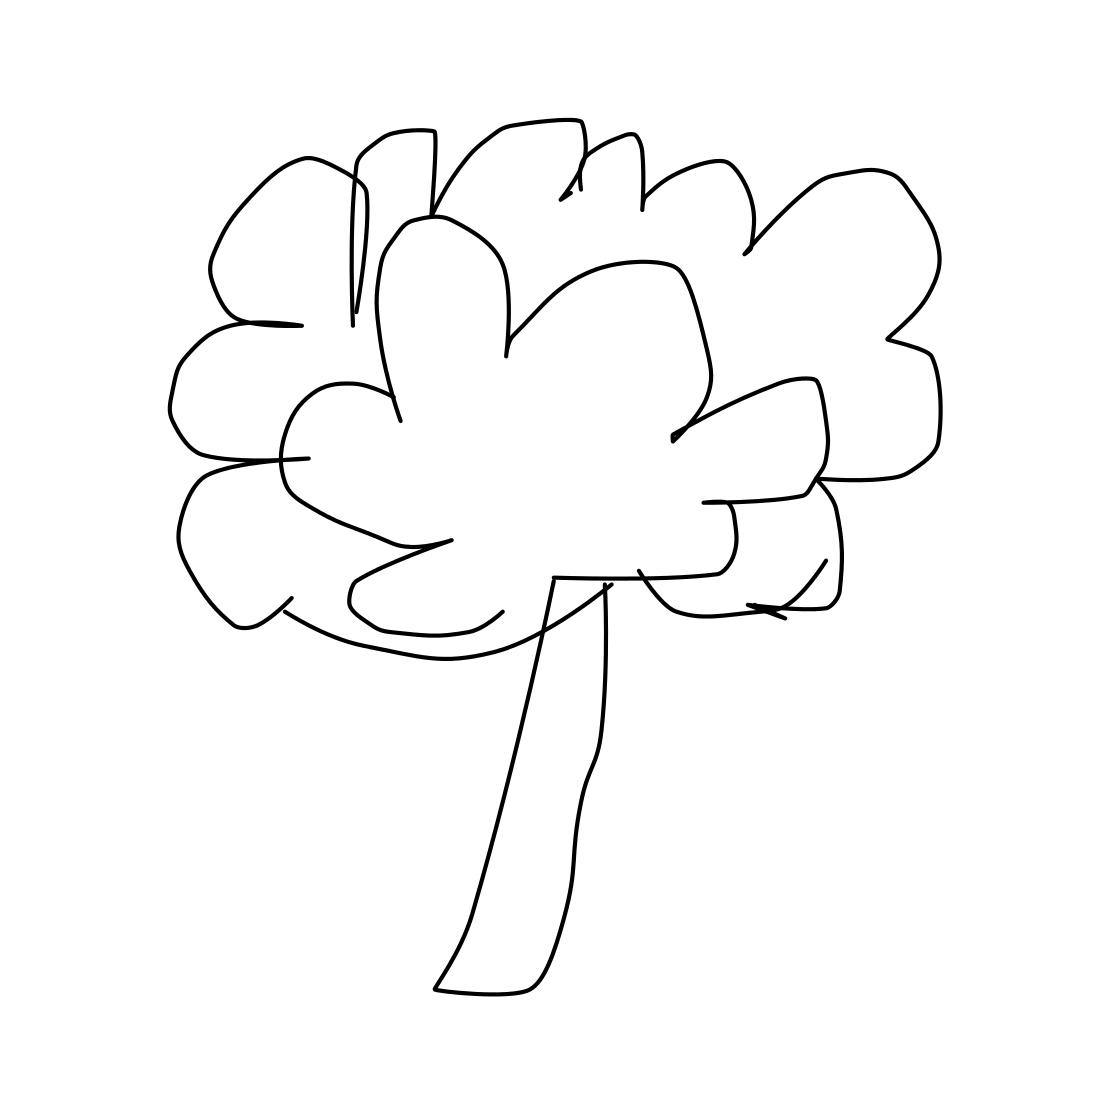Tree: (160, 98, 947, 1007)
